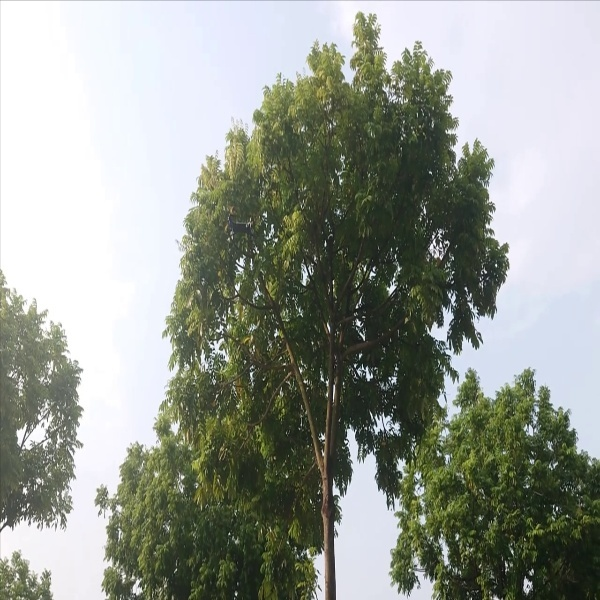drone: (224, 210, 259, 239)
